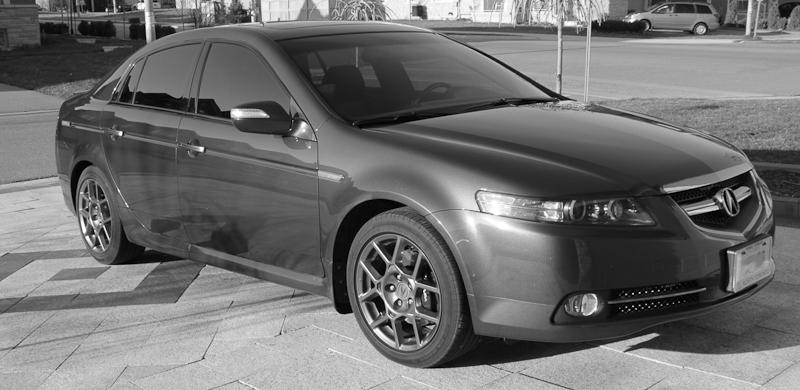car: (56, 23, 776, 372)
